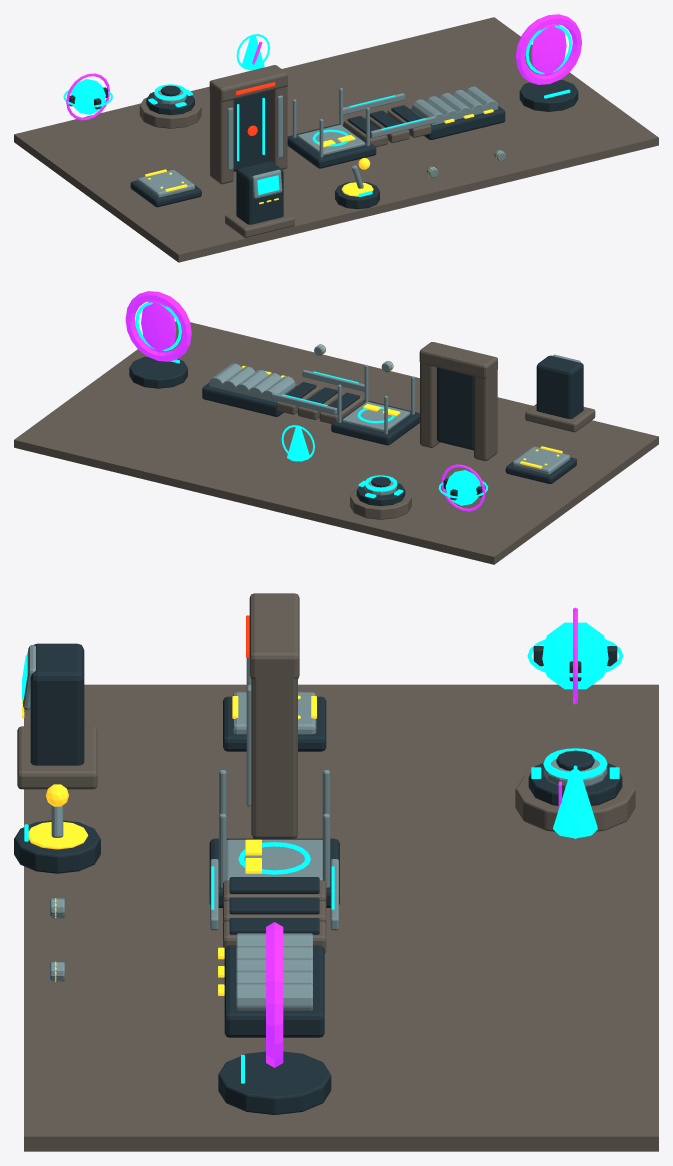
The model's file is Gameplay_Objects_Roster.glb.
3 views of the same model, one above another, from view 1: azimuth 30°, elevation 25°; view 2: azimuth 150°, elevation 25°; view 3: azimuth 270°, elevation 25° (orthographic). The views are drawn at different scales.
Parts seen in each view (by area): view 1: Gameplay_Display_Floor, Door_Panel, Terminal_Body, Portal_Ring, Door_StonePillar_-0.72, Door_TopBeam, Portal_Base, Portal_Field, Elevator_Platform, Door_StonePillar_0.72, Conveyor_Base, Pedestal_StoneBase (+20 smaller); view 2: Gameplay_Display_Floor, Door_Panel, Terminal_Body, Door_StonePillar_-0.72, Portal_Ring, Door_TopBeam, Portal_Base, Portal_Field, Door_StonePillar_0.72, Elevator_Platform, Conveyor_Base, Pedestal_StoneBase (+12 smaller); view 3: Gameplay_Display_Floor, Door_StonePillar_0.72, Terminal_Body, Portal_Base, Door_TopBeam, Conveyor_Base, Terminal_Base, EnergyCore_Faceted, Elevator_Inner, Pedestal_StoneBase, Switch_Base, Portal_Ring (+11 smaller).
Part boxes in pixels (x1,y1,x2,y2): Gameplay_Display_Floor: [14, 17, 658, 262]; Door_Panel: [233, 91, 268, 171]; Terminal_Body: [236, 161, 283, 224]; Portal_Ring: [516, 14, 581, 84]; Door_StonePillar_-0.72: [210, 90, 233, 184]; Door_TopBeam: [209, 65, 287, 101]; Portal_Base: [519, 79, 578, 111]; Portal_Field: [531, 24, 566, 75]; Elevator_Platform: [287, 123, 376, 168]; Door_StonePillar_0.72: [269, 86, 287, 169]; Conveyor_Base: [410, 106, 505, 139]; Pedestal_StoneBase: [139, 97, 201, 128]; Gameplay_Display_Floor: [14, 321, 658, 564]; Door_Panel: [437, 367, 473, 450]; Terminal_Body: [536, 355, 583, 418]; Door_StonePillar_-0.72: [474, 367, 497, 460]; Portal_Ring: [125, 291, 191, 361]; Door_TopBeam: [419, 342, 497, 378]; Portal_Base: [129, 356, 187, 388]; Portal_Field: [141, 300, 176, 352]; Door_StonePillar_0.72: [420, 363, 439, 447]; Elevator_Platform: [331, 400, 419, 445]; Conveyor_Base: [202, 383, 296, 416]; Pedestal_StoneBase: [350, 488, 411, 519]; Gameplay_Display_Floor: [24, 684, 658, 1151]; Door_StonePillar_0.72: [251, 671, 297, 838]; Terminal_Body: [30, 643, 84, 765]; Portal_Base: [218, 1051, 331, 1114]; Door_TopBeam: [249, 593, 299, 679]; Conveyor_Base: [224, 945, 324, 1037]; Terminal_Base: [17, 726, 97, 789]; EnergyCore_Faceted: [542, 622, 608, 689]; Elevator_Inner: [226, 839, 322, 880]; Pedestal_StoneBase: [515, 773, 635, 831]; Switch_Base: [14, 820, 100, 873]; Portal_Ring: [266, 922, 283, 1067].
Size of the model in its own units: 12.8 by 2.69 by 7.72.
